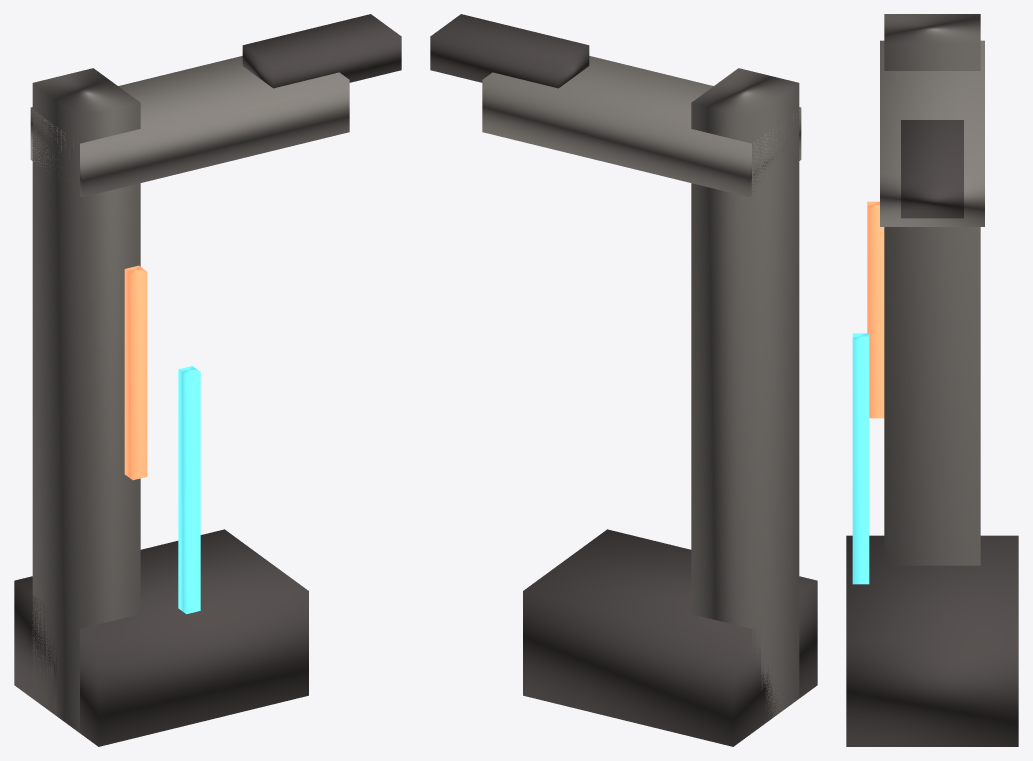
The model's file is damaged-vessel-broken-rib-lod1.glb.
The picture shows the model from 3 angles, left to right: view 1: azimuth 30°, elevation 25°; view 2: azimuth 150°, elevation 25°; view 3: azimuth 270°, elevation 25°; orthographic projection. The views are drawn at different scales.
Parts seen in each view (by area): view 1: damaged-vessel-broken-rib-spine, damaged-vessel-broken-rib-foot, damaged-vessel-broken-rib-shoulder, damaged-vessel-broken-rib-splinter-upper, damaged-vessel-broken-rib-cable, damaged-vessel-broken-rib-scar; view 2: damaged-vessel-broken-rib-spine, damaged-vessel-broken-rib-foot, damaged-vessel-broken-rib-shoulder, damaged-vessel-broken-rib-splinter-upper; view 3: damaged-vessel-broken-rib-spine, damaged-vessel-broken-rib-foot, damaged-vessel-broken-rib-shoulder, damaged-vessel-broken-rib-splinter-upper, damaged-vessel-broken-rib-cable, damaged-vessel-broken-rib-scar.
Boxes of the visible parts, left/top/right/bottom form: damaged-vessel-broken-rib-spine: left=32, top=68, right=140, bottom=732; damaged-vessel-broken-rib-foot: left=14, top=529, right=308, bottom=746; damaged-vessel-broken-rib-shoulder: left=30, top=56, right=349, bottom=197; damaged-vessel-broken-rib-splinter-upper: left=242, top=14, right=401, bottom=88; damaged-vessel-broken-rib-cable: left=178, top=366, right=200, bottom=614; damaged-vessel-broken-rib-scar: left=124, top=265, right=147, bottom=480; damaged-vessel-broken-rib-spine: left=691, top=68, right=799, bottom=718; damaged-vessel-broken-rib-foot: left=523, top=529, right=817, bottom=746; damaged-vessel-broken-rib-shoulder: left=482, top=56, right=801, bottom=197; damaged-vessel-broken-rib-splinter-upper: left=430, top=14, right=589, bottom=88; damaged-vessel-broken-rib-spine: left=884, top=14, right=980, bottom=565; damaged-vessel-broken-rib-foot: left=846, top=535, right=1018, bottom=746; damaged-vessel-broken-rib-shoulder: left=880, top=40, right=984, bottom=226; damaged-vessel-broken-rib-splinter-upper: left=901, top=120, right=963, bottom=218; damaged-vessel-broken-rib-cable: left=852, top=333, right=869, bottom=584; damaged-vessel-broken-rib-scar: left=867, top=201, right=884, bottom=418.
Bounding box in the file's own units: 1.85 × 3.3 × 0.82.
